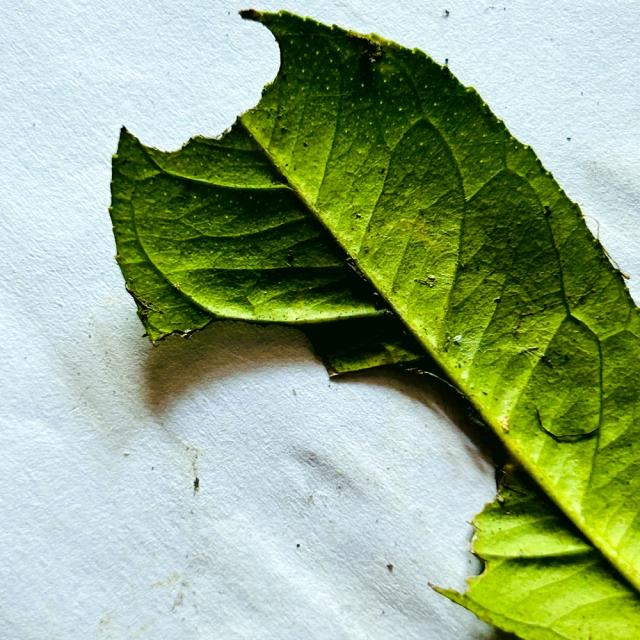Deficiency Leaf: (143, 321, 495, 589), (111, 1, 280, 150)
Lemon: (109, 10, 639, 585), (447, 476, 639, 639)
